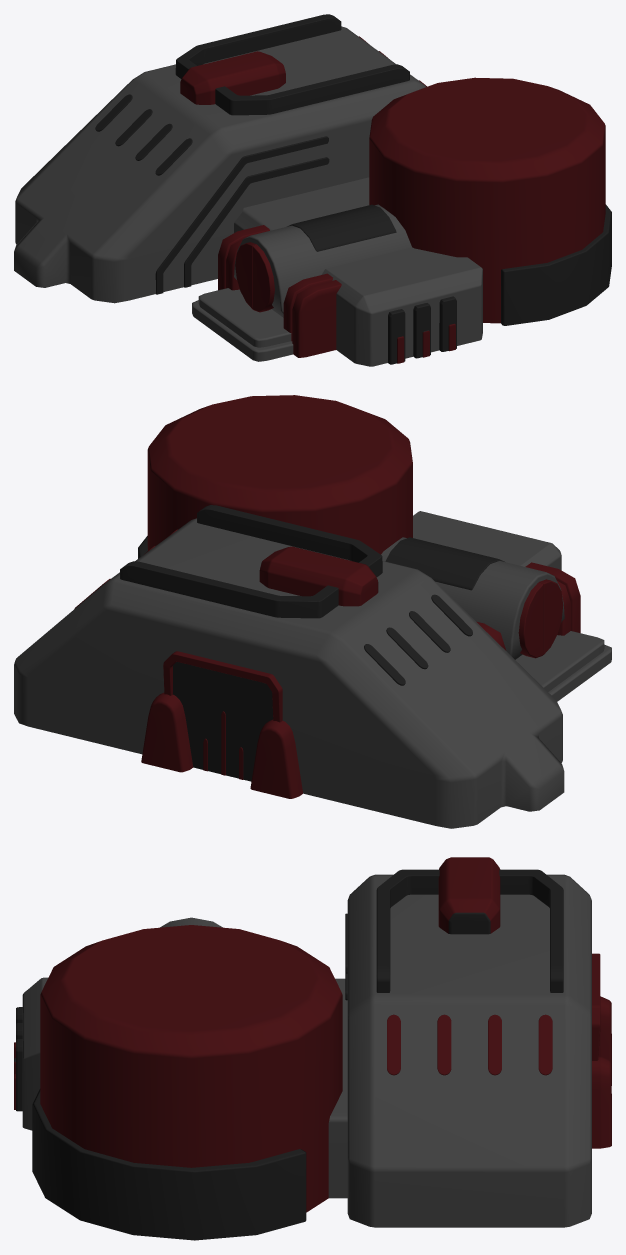
Rendered from colony_Machine_building_plant.glb.
3 views of the same model, one above another, from view 1: azimuth 30°, elevation 25°; view 2: azimuth 150°, elevation 25°; view 3: azimuth 270°, elevation 25° (orthographic). The views are drawn at different scales.
Parts seen in each view (by area): view 1: Machine_building_plant; view 2: Machine_building_plant; view 3: Machine_building_plant.
Part boxes in pixels (x1,y1,x2,y2): Machine_building_plant: [14, 14, 611, 366]; Machine_building_plant: [14, 395, 611, 828]; Machine_building_plant: [14, 857, 611, 1240].
Bounding box in the file's own units: 1707 × 574 × 1514.
1 material, 1 textured.
